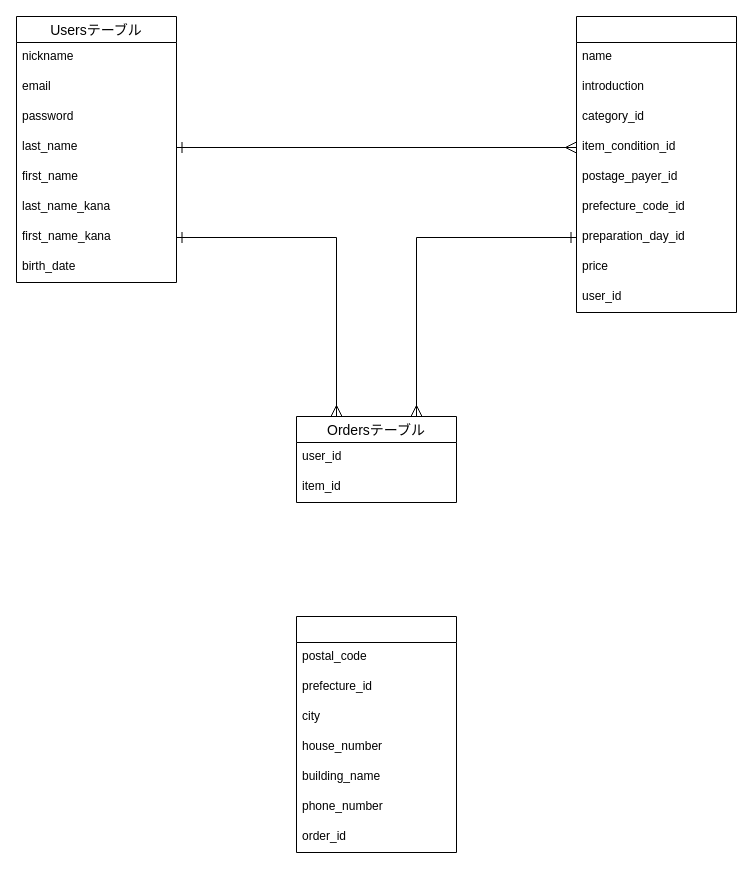
This 753x869 diagram has some shape labels left out. Each missing label, with the box of its shape:
Addressテーブル: (296, 616, 456, 852)
Itemsテーブル: (576, 16, 736, 312)
